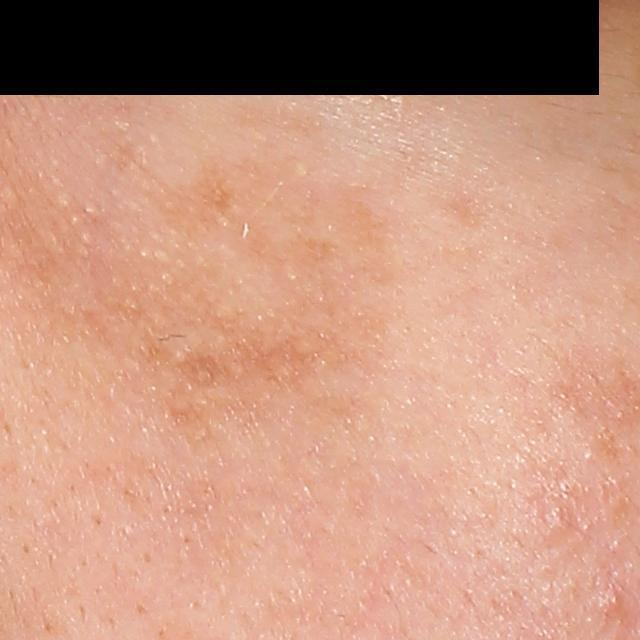comedo: (594, 583, 626, 618)
melasma: (158, 165, 234, 242), (239, 225, 343, 272), (226, 99, 335, 142), (334, 188, 391, 257)
